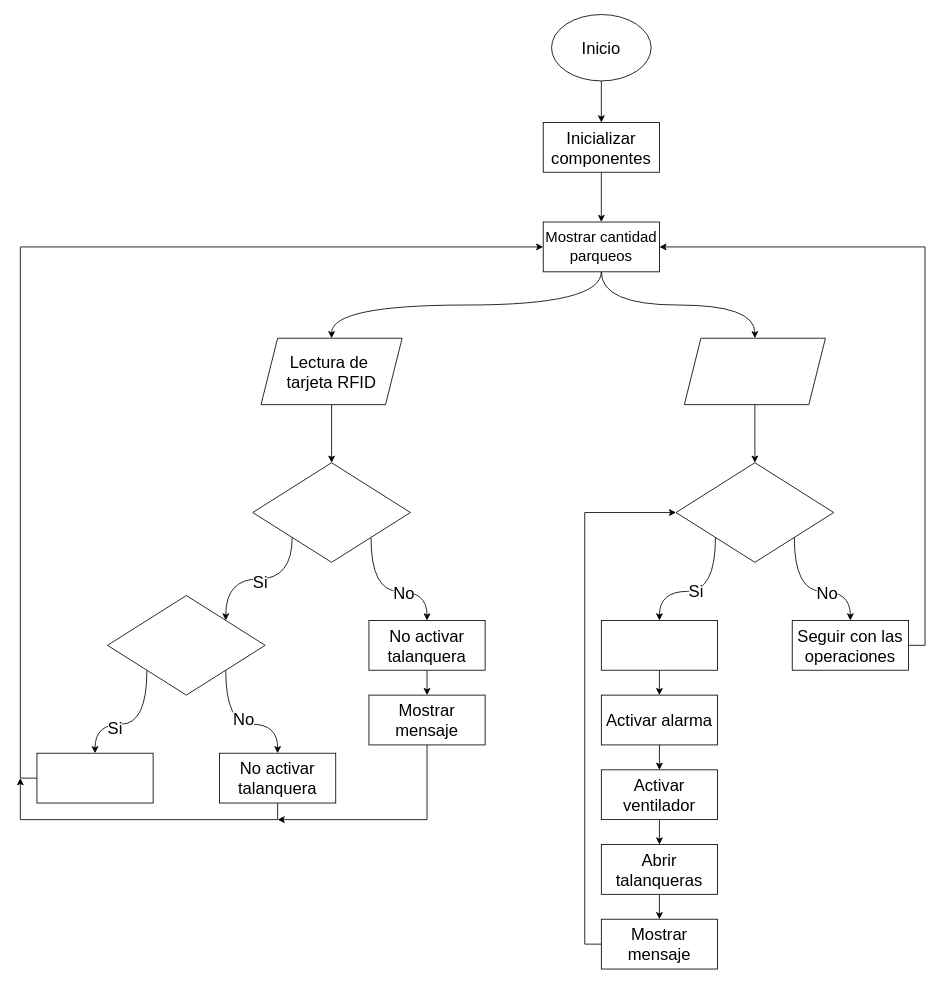
This 946x984 diagram has some shape labels left out. The box of each missing label's shape, as (x1, y1, x2, y2) in pixels:
Activar talanquera: (36, 752, 153, 803)
Detener operaciones: (601, 620, 718, 670)
Lectura sensor de gas: (684, 337, 825, 405)
¿Es valida la tarjeta?: (107, 595, 265, 695)
¿Hay humo ?: (675, 462, 834, 562)
¿Hay parqueos disponibles ?: (252, 462, 410, 562)
